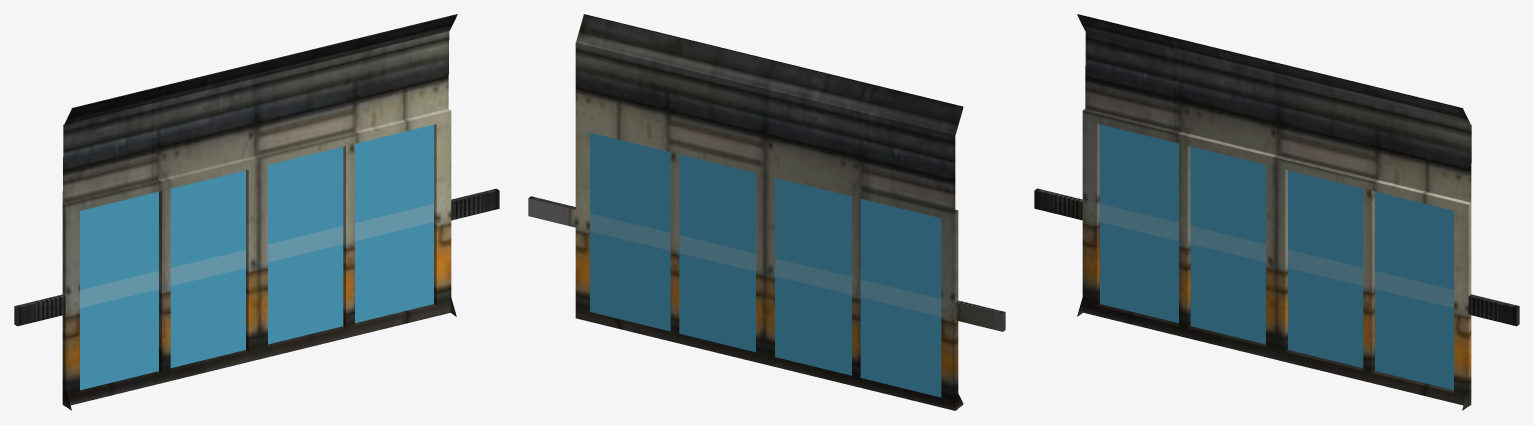
The model's file is wall_doors_locked.fbx.
3 renders of one model, left to right at view 1: azimuth 30°, elevation 25°; view 2: azimuth 150°, elevation 25°; view 3: azimuth 330°, elevation 25°, orthographic.
Parts seen in each view (by area): view 1: WideDoorsLocked; view 2: WideDoorsLocked; view 3: WideDoorsLocked.
Part boxes in pixels (x1=…): WideDoorsLocked: x1=14, y1=14, x2=499, y2=410; WideDoorsLocked: x1=528, y1=14, x2=1005, y2=410; WideDoorsLocked: x1=1034, y1=14, x2=1519, y2=410.
Size of the model in its own units: 1000 by 600 by 31.03.
3 materials, 1 textured.
